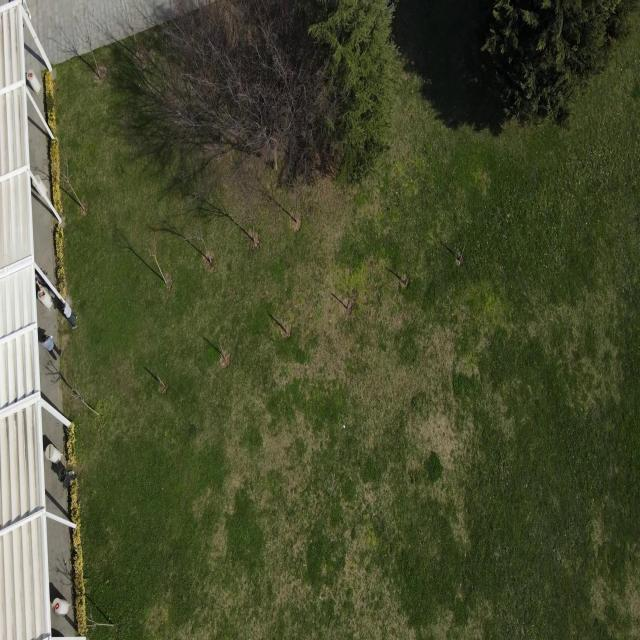p3rson: (41, 332, 62, 364), (60, 300, 78, 330)
